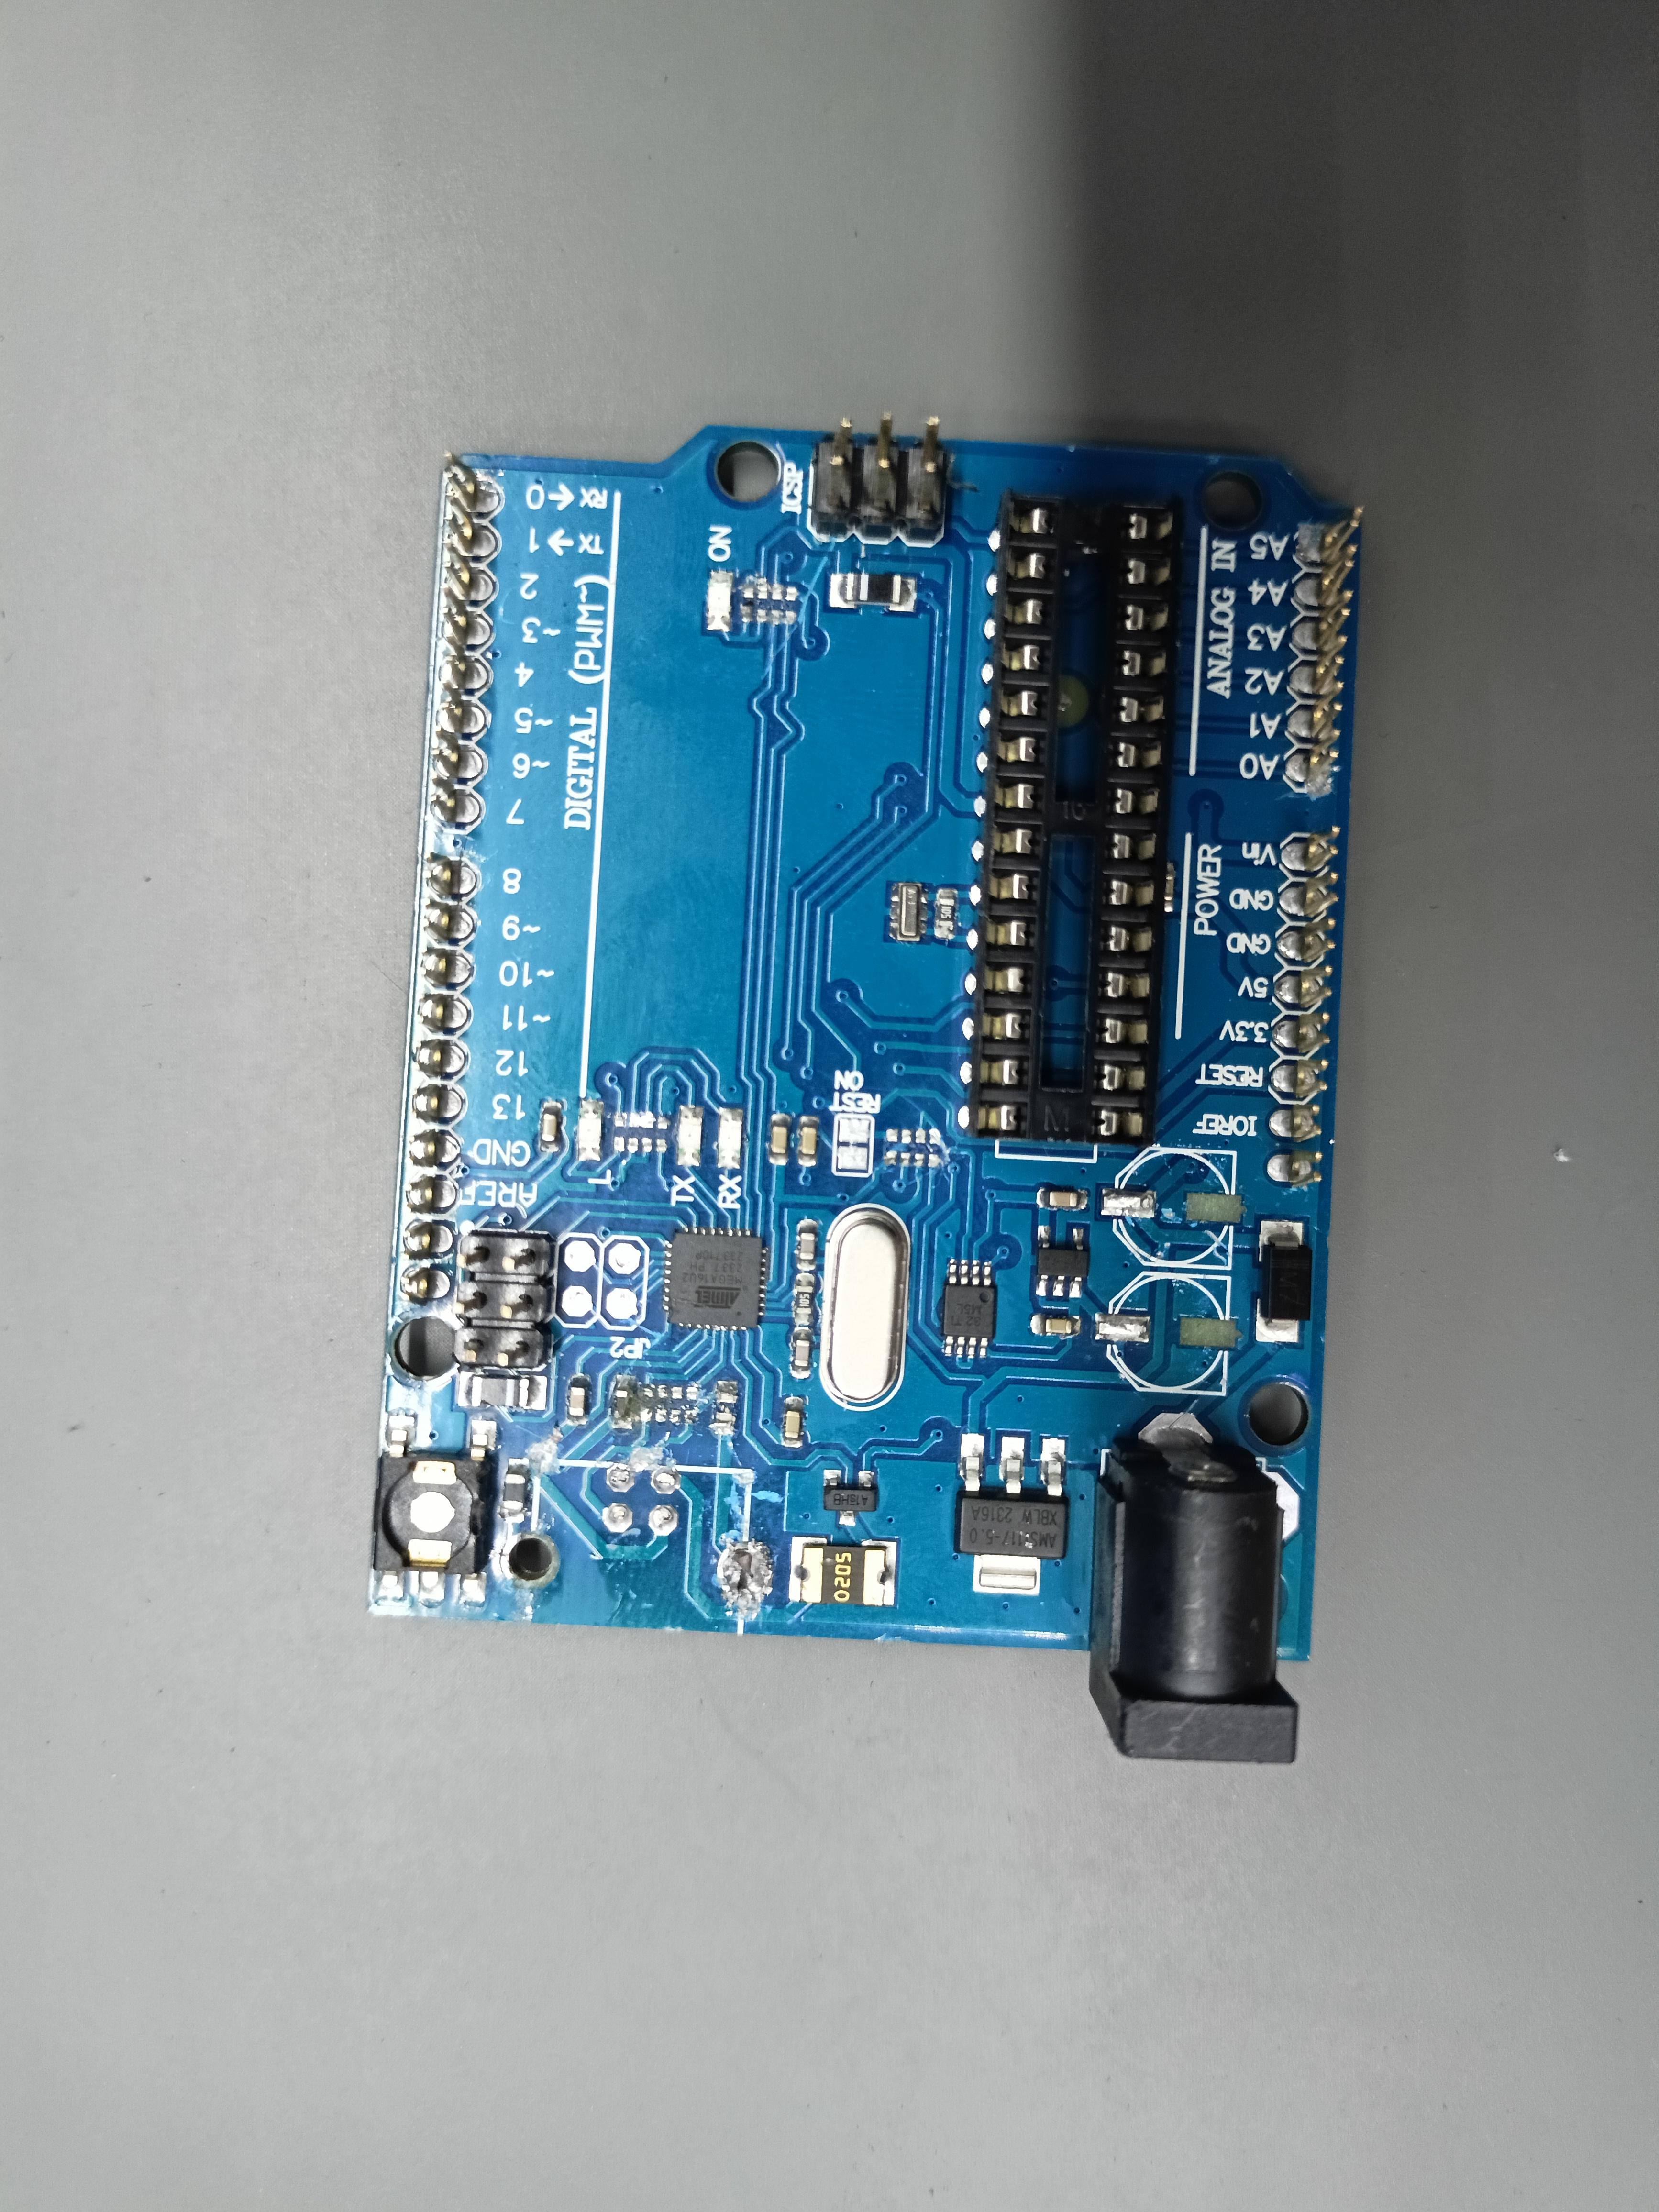Arduino board: (364, 406, 1364, 1763)
